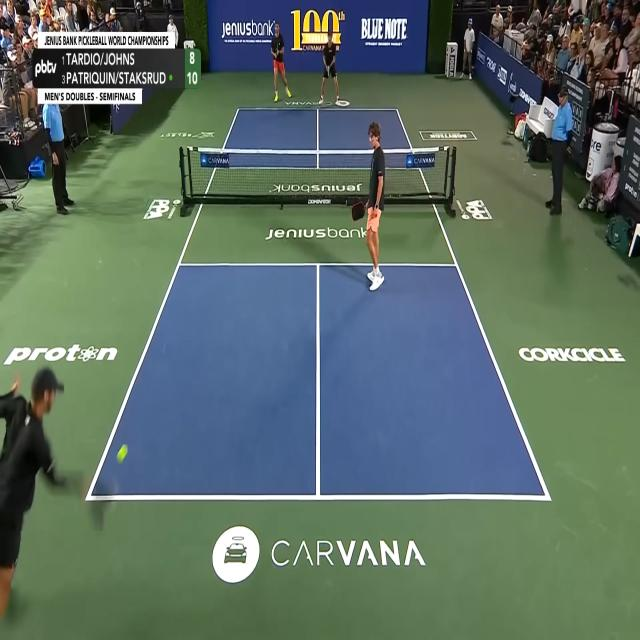ball: (117, 444, 128, 465)
